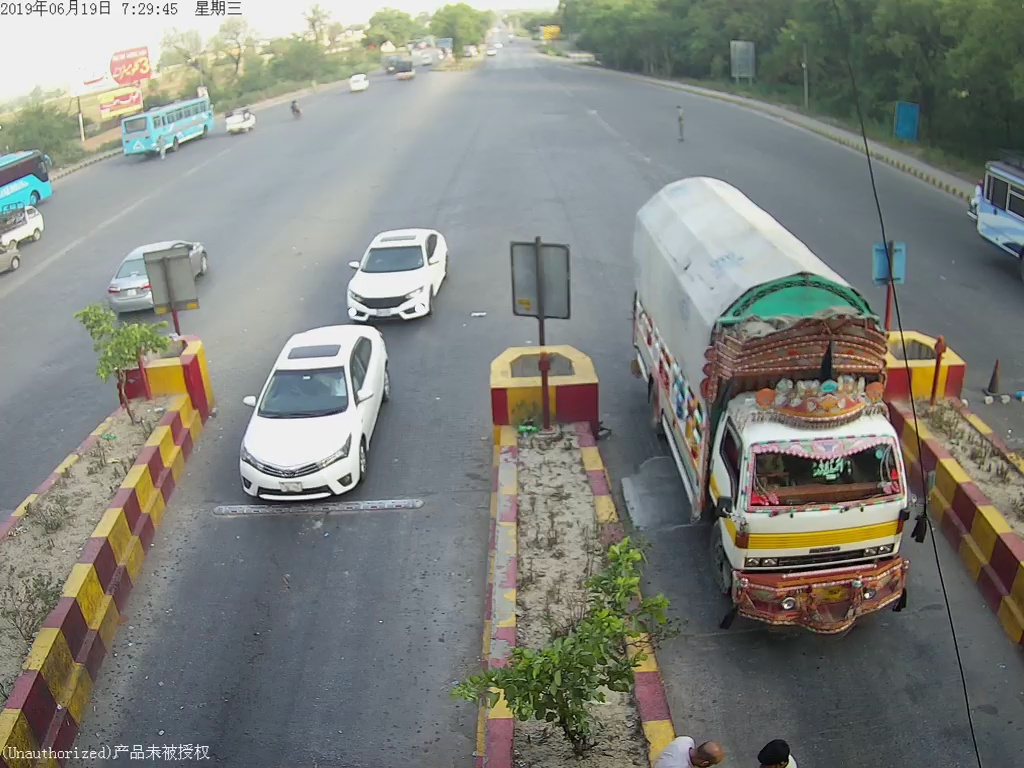Cat-1: (234, 326, 391, 510), (341, 219, 448, 321)
Cat-4: (629, 164, 929, 643)
